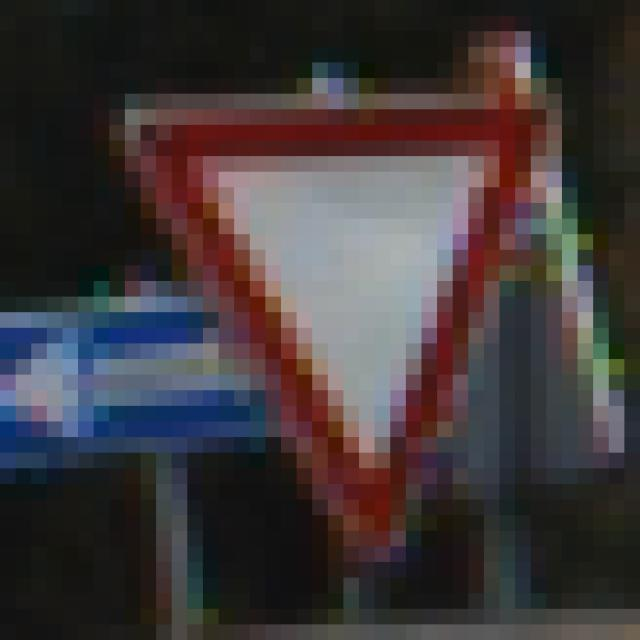Give Way: (95, 79, 563, 563)
